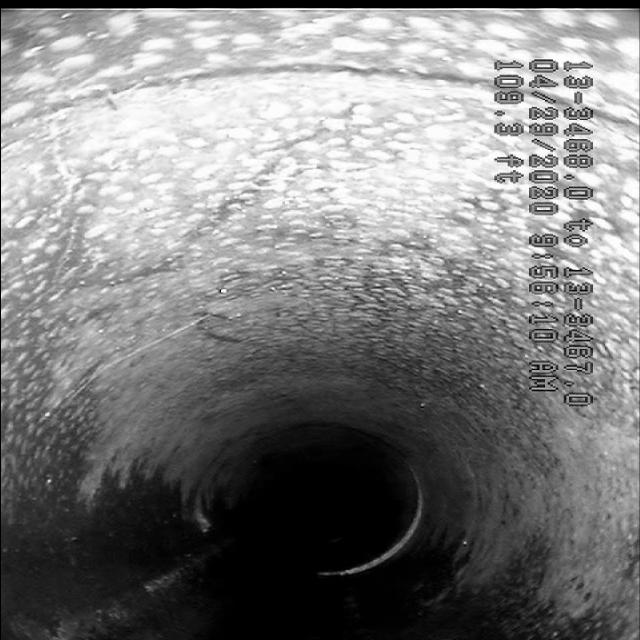Crack: (112, 101, 392, 302)
